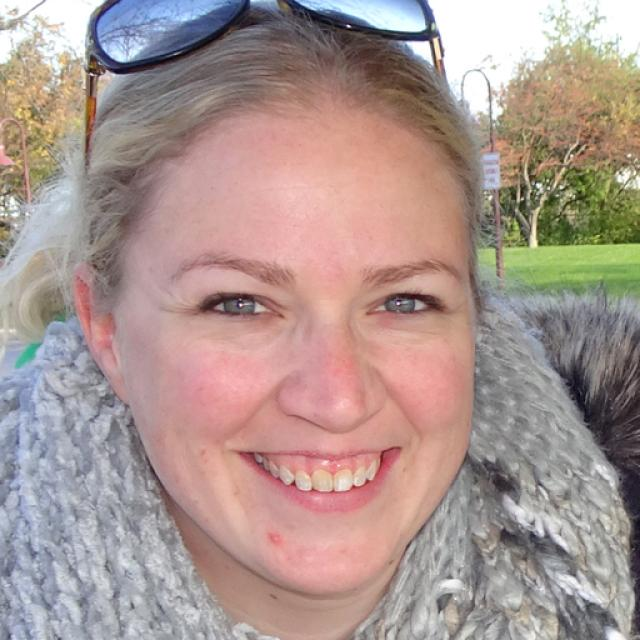Acne: (263, 531, 286, 547)
Pigmentation: (274, 321, 369, 417)
